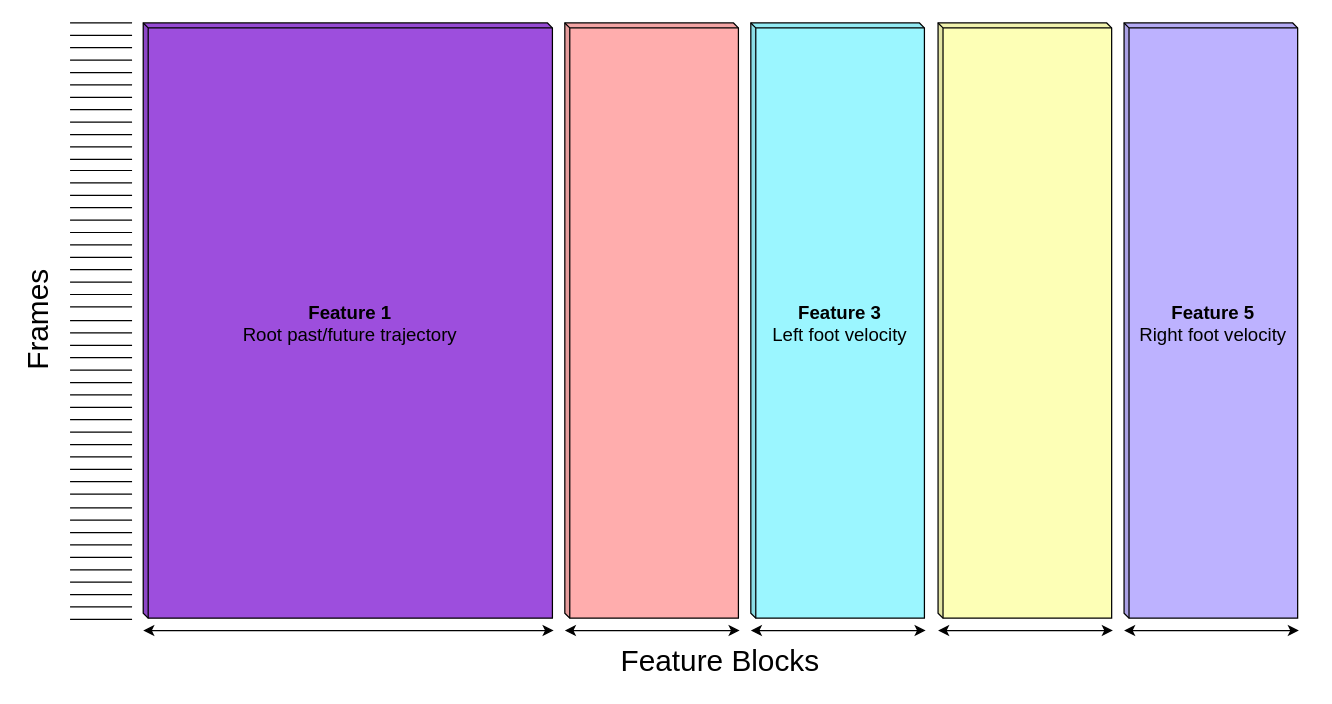
The diagram is 1332 pixels wide and 704 high, and some of its shapes have lost their labels. Here are the shapes that lost their labels. From the top down, the centre of each, then its label:
At point 651,320: "Feature 2 Left foot position".
At point 1024,320: "Feature 4 Right foot position".
